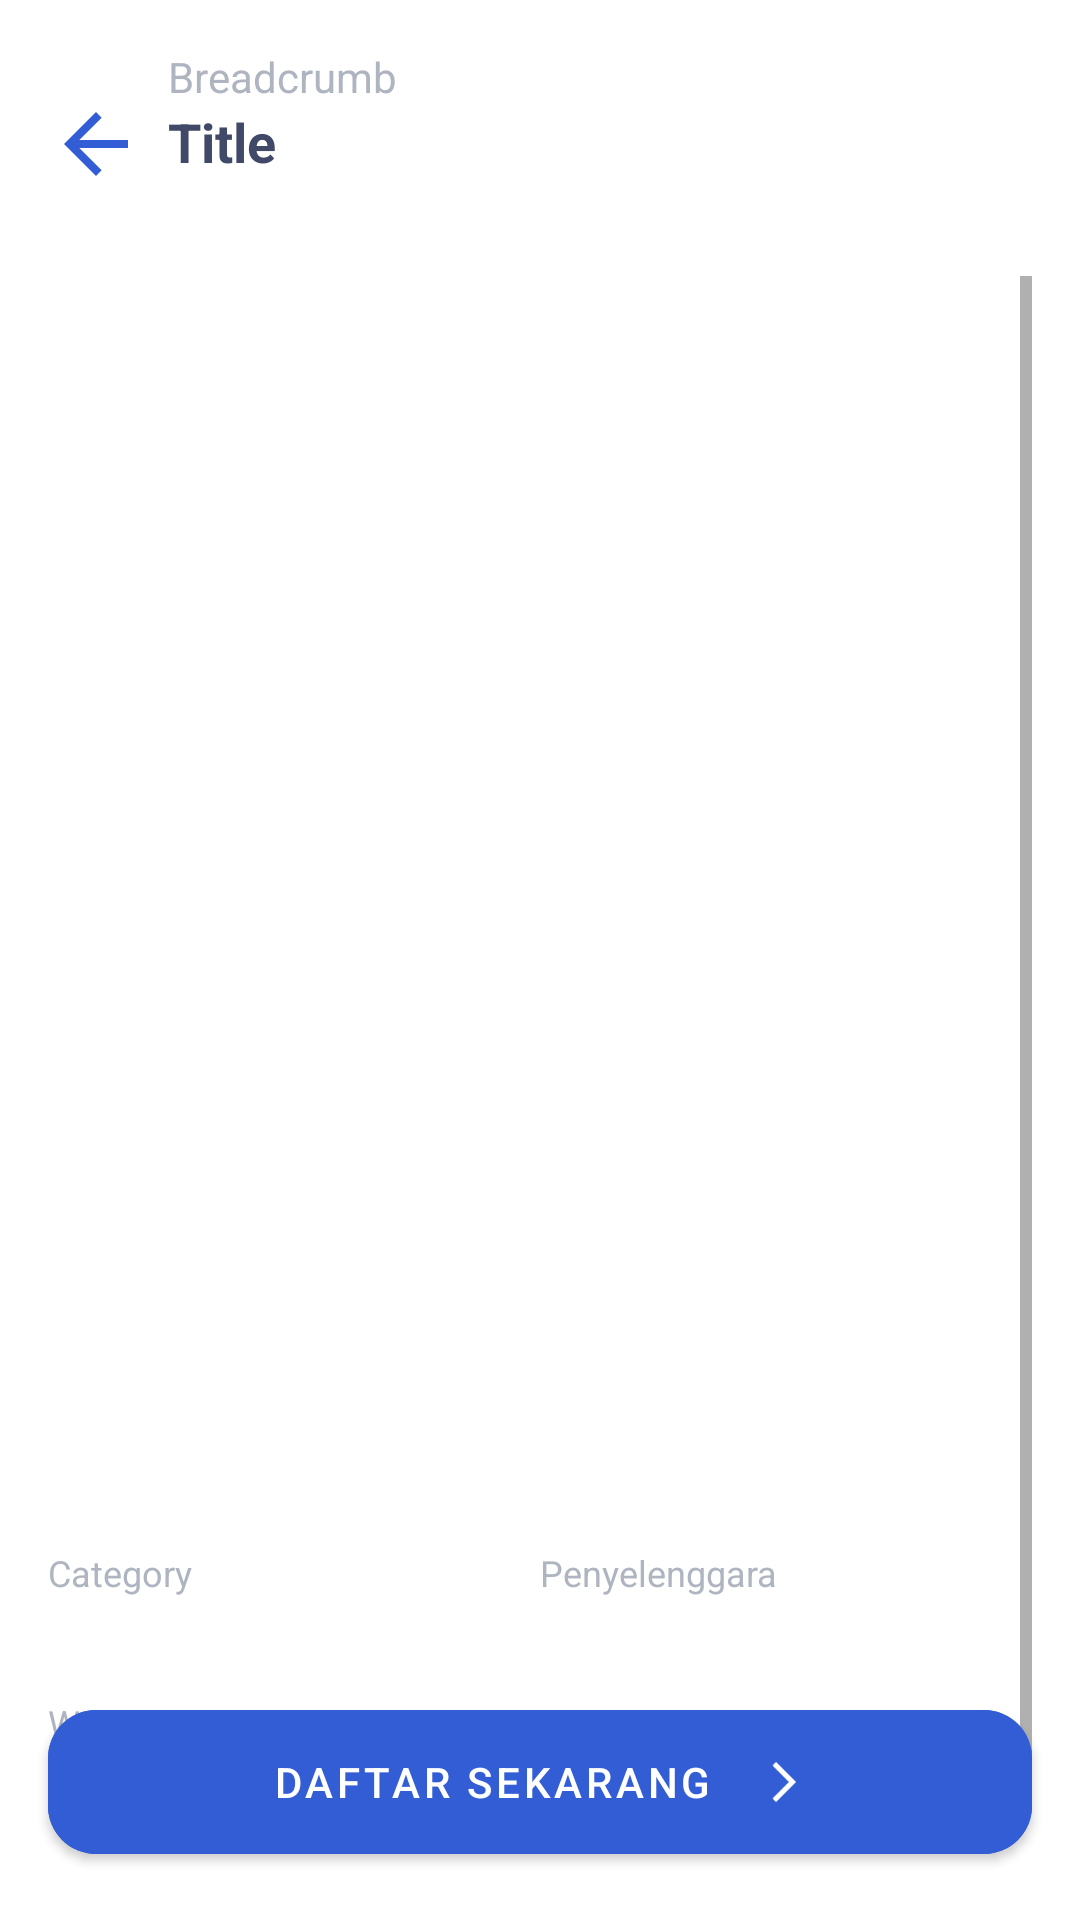

Where icons sit on this 1080×1920 app screen, as [x1,y1,x2,y2]:
kembali ke halaman sebelumnya: [64,112,128,176]
